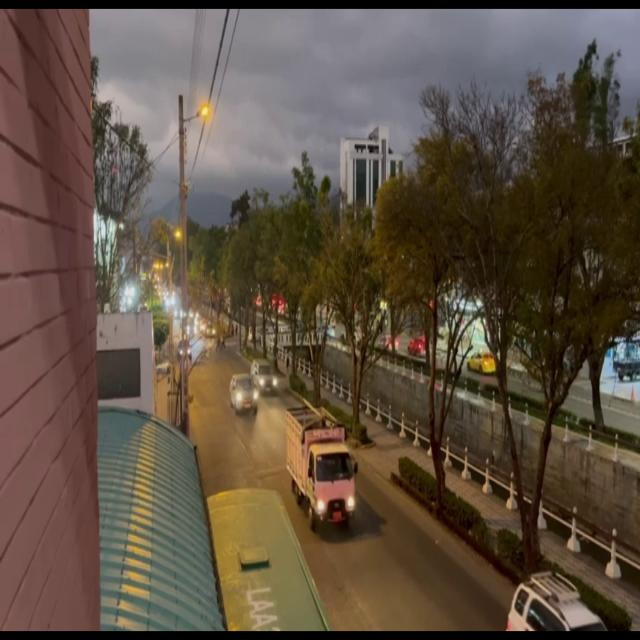CMT: (252, 361, 276, 395)
SUV: (232, 376, 257, 415)
TRUCK: (284, 408, 354, 524)
